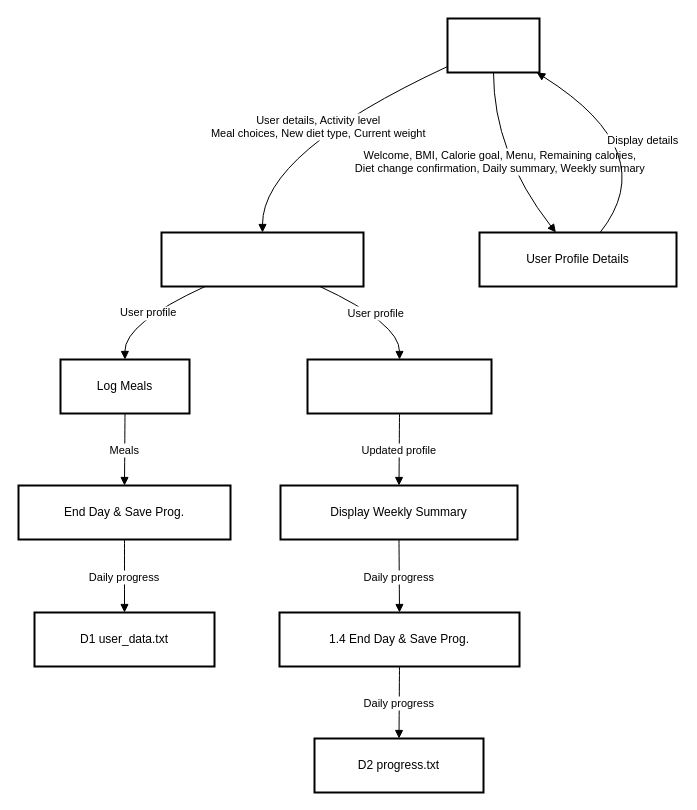
The diagram is 697 pixels wide and 810 high, and some of its shapes have lost their labels. Each missing label, with the box of its shape:
Change Diet Type: (306, 358, 492, 414)
Manage User Profile: (160, 231, 364, 287)
User: (446, 17, 540, 73)
